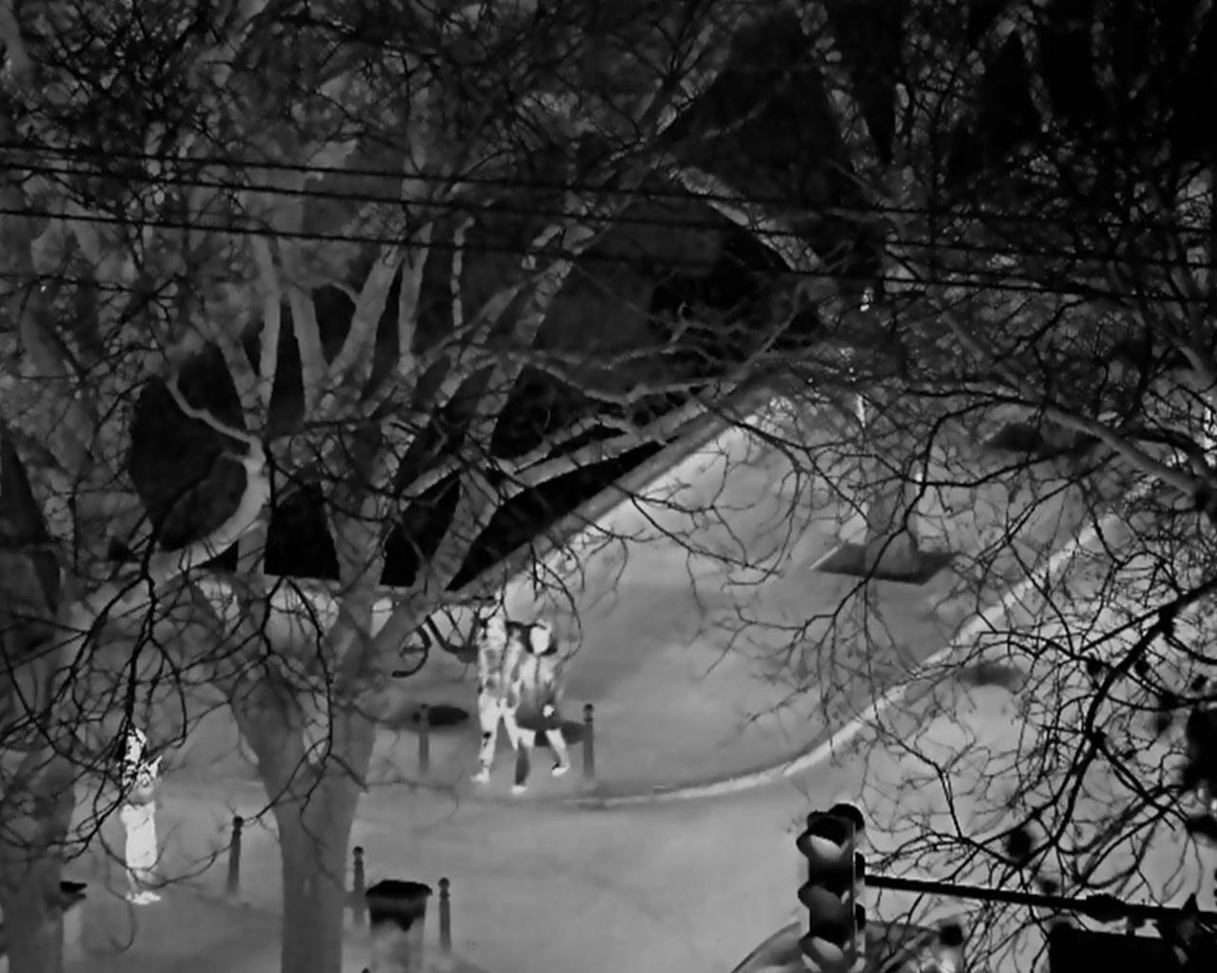person: (513, 620, 570, 793), (470, 617, 527, 784), (122, 723, 165, 907)
